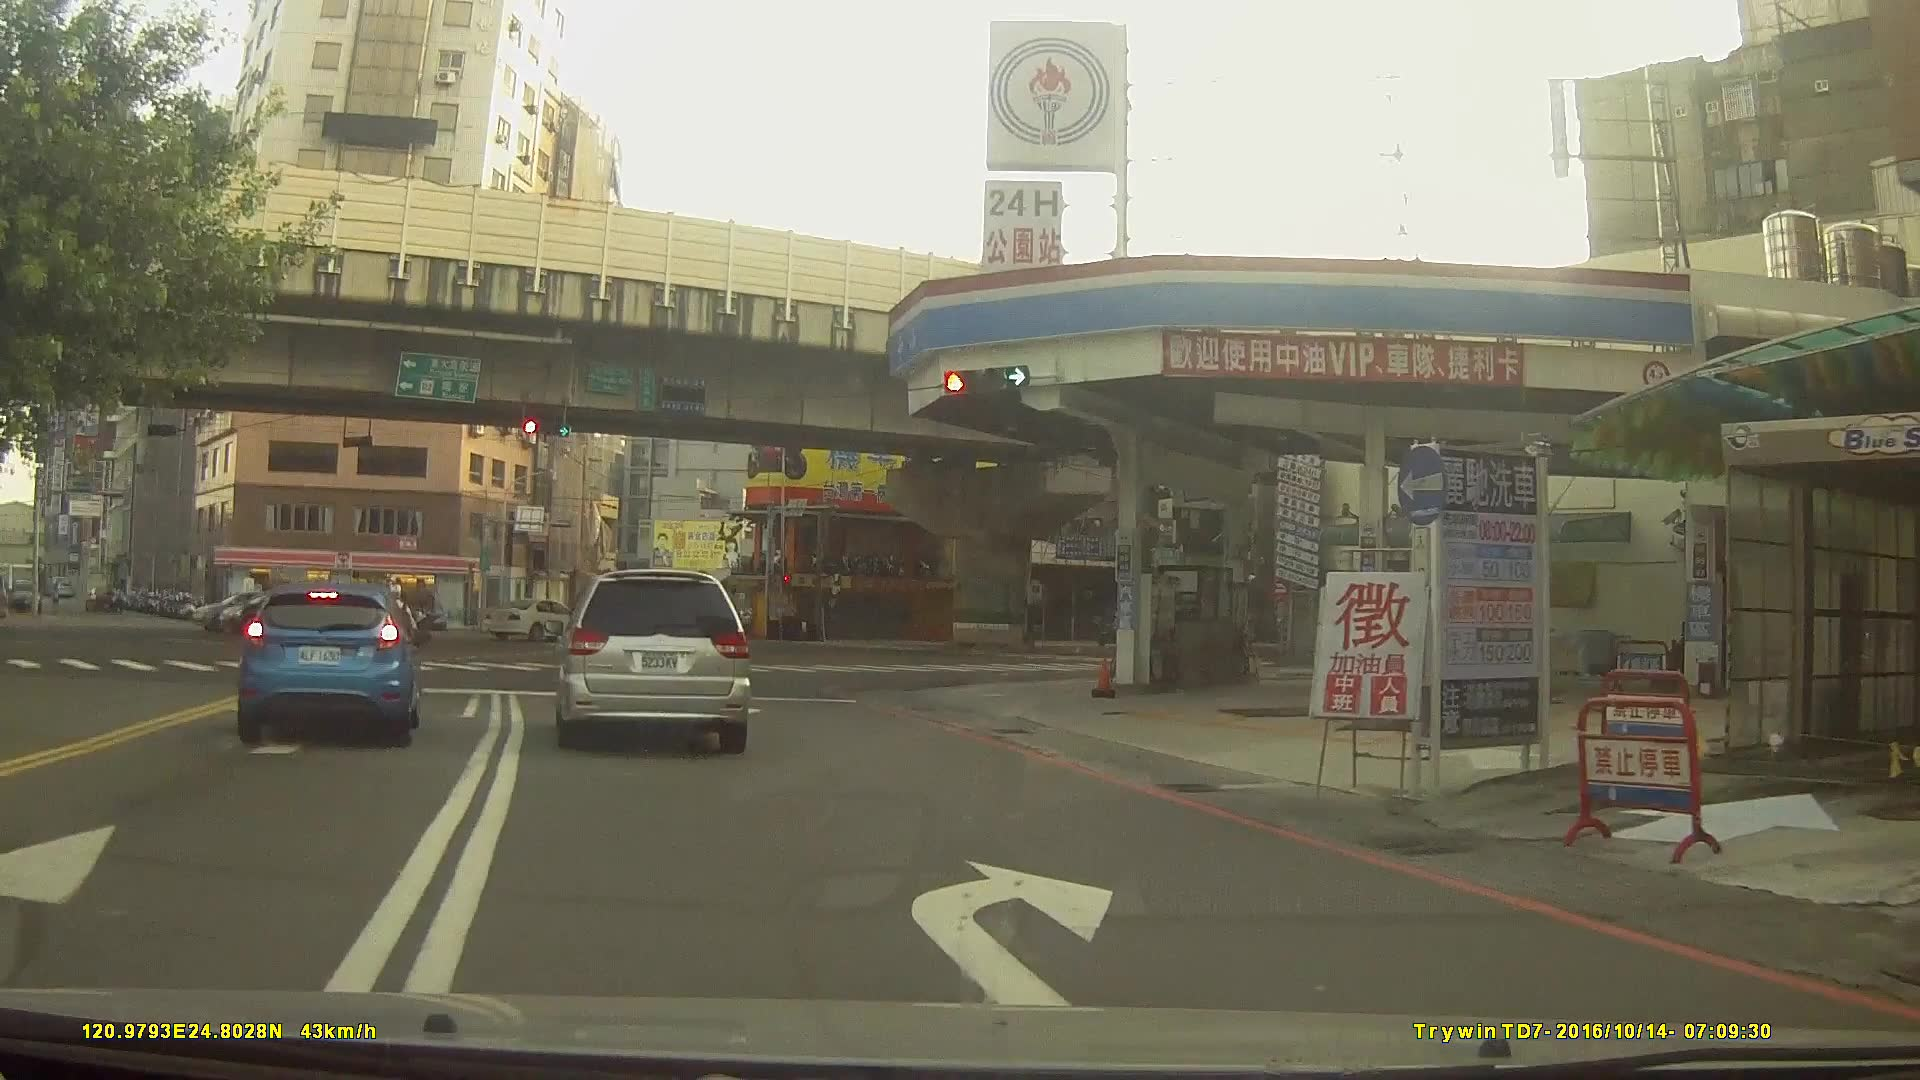vehicle: (549, 564, 753, 750), (236, 583, 419, 742), (216, 583, 334, 632), (483, 593, 591, 640)
